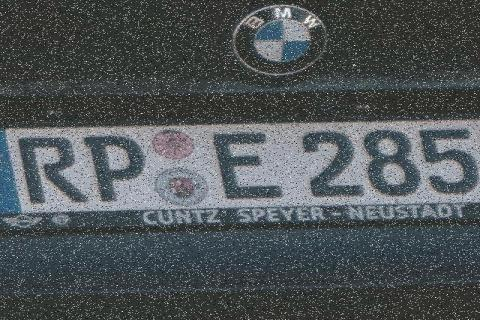LicensePlate: (0, 114, 480, 234)
